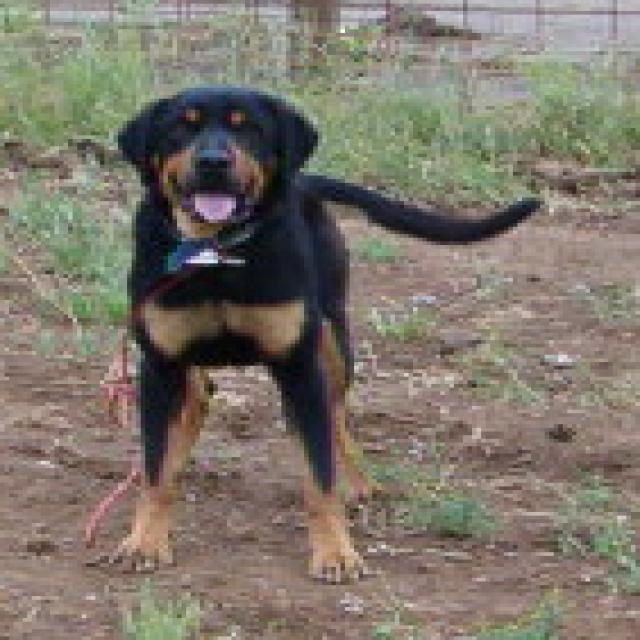Dogs: (77, 80, 545, 582)
